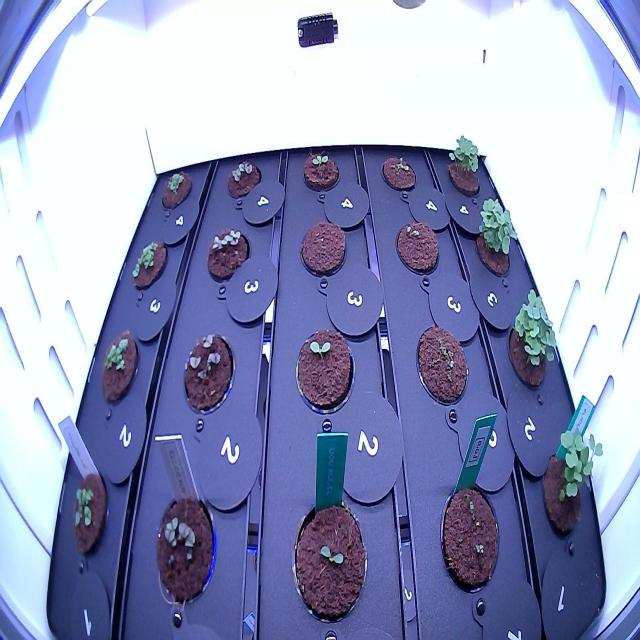germination: (286, 482, 372, 631), (150, 479, 224, 615), (433, 468, 504, 604), (537, 417, 606, 548), (290, 316, 360, 422), (501, 283, 563, 395), (179, 321, 241, 424), (66, 460, 113, 567), (469, 191, 522, 279), (97, 321, 144, 411), (390, 212, 445, 284), (200, 218, 253, 292), (442, 123, 487, 202), (128, 232, 173, 296), (220, 147, 267, 206), (374, 146, 423, 202), (296, 142, 345, 198), (155, 160, 195, 218)
pod: (404, 316, 478, 416), (292, 209, 350, 287)
